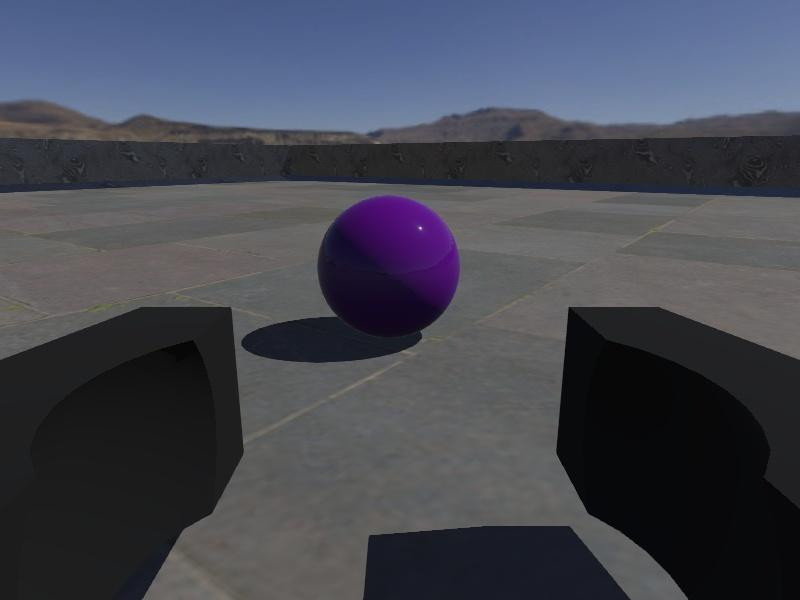violet ball: (317, 193, 462, 340)
